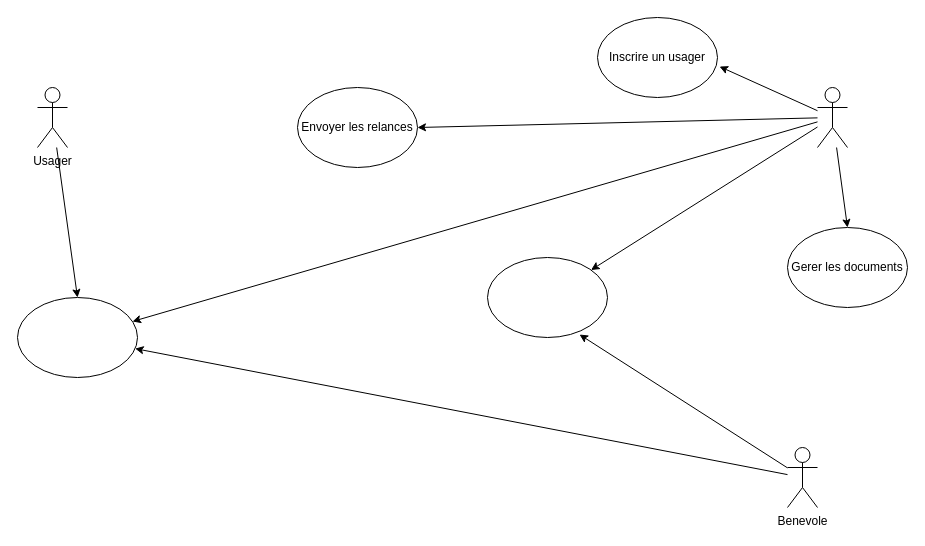
The diagram is 925 pixels wide and 546 high, and some of its shapes have lost their labels. The shapes that lost their labels are listed below. From the top down, each one's centre as x and y in pixels, then its label:
(832,117): Personnel
(547,297): Enregistrer un emprunt
(77,337): Consulter le catalogue
